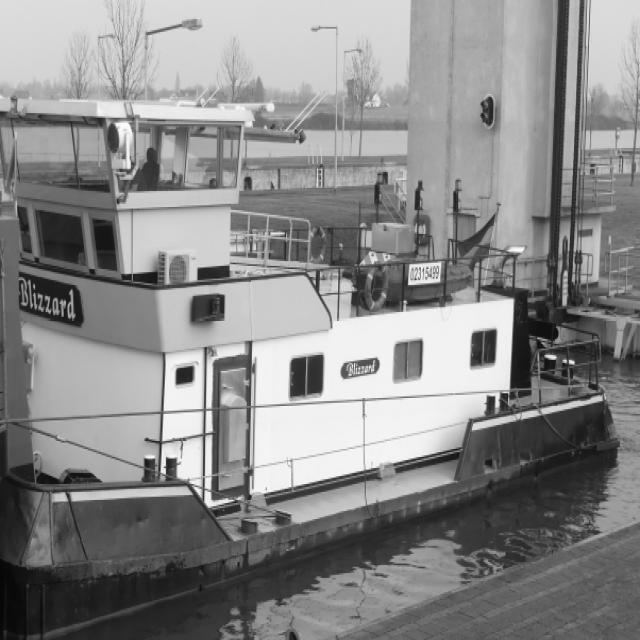tugboat: (1, 85, 624, 640)
